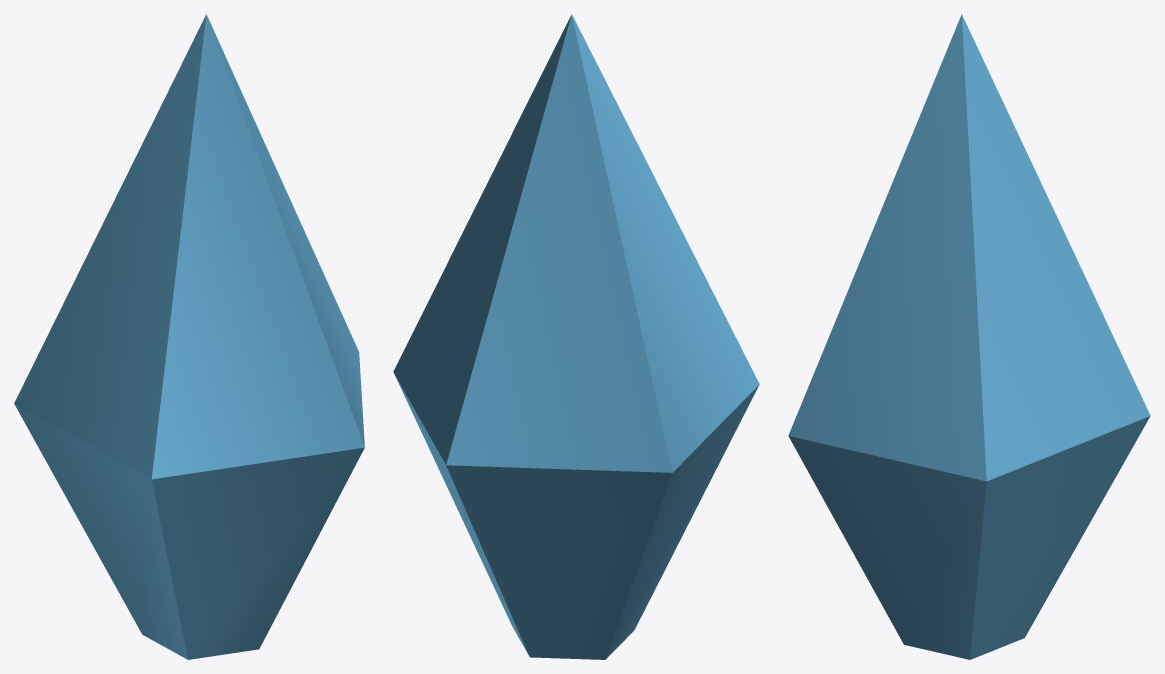
File: 2067_CoreRegeneration_Shard.fbx
3 renders of one model, left to right at view 1: azimuth 30°, elevation 25°; view 2: azimuth 150°, elevation 25°; view 3: azimuth 270°, elevation 25°, orthographic.
Visible parts, largest first — view 1: PART_SolidFragment; view 2: PART_SolidFragment; view 3: PART_SolidFragment.
Part boxes in pixels (x1,y1,x2,y2): PART_SolidFragment: (14, 14, 364, 659); PART_SolidFragment: (393, 14, 759, 659); PART_SolidFragment: (788, 14, 1150, 659).
Bounding box in the file's own units: 16.83 × 32 × 16.97.
